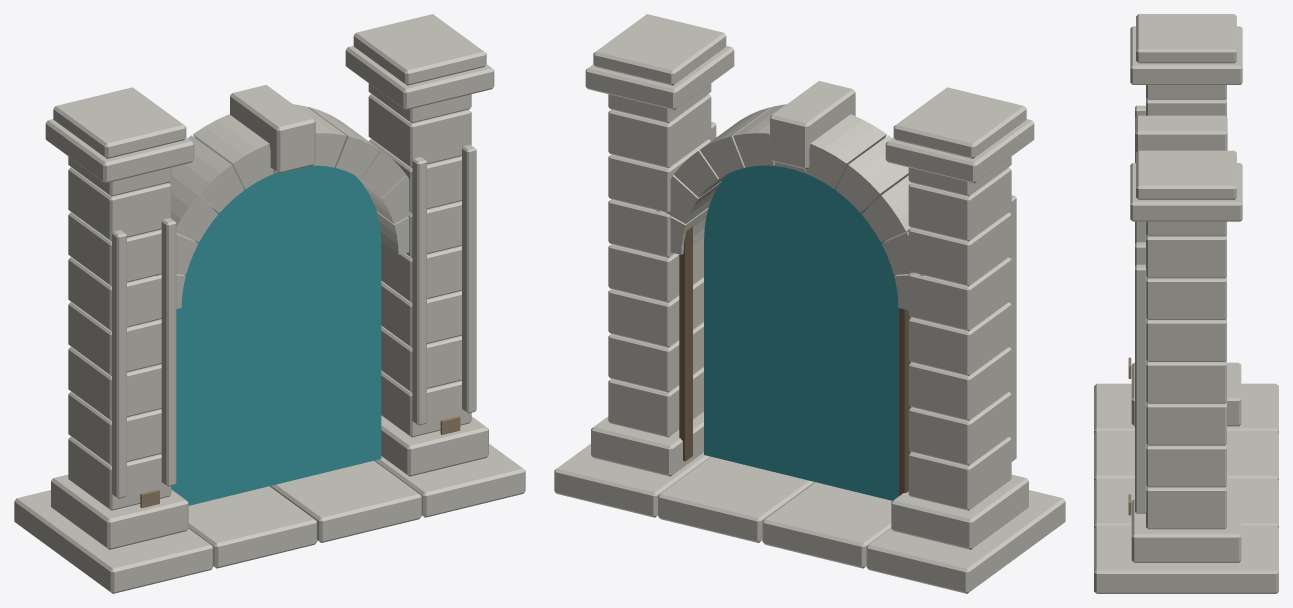
3 views of the same model, side by side, from view 1: azimuth 30°, elevation 25°; view 2: azimuth 150°, elevation 25°; view 3: azimuth 270°, elevation 25° (orthographic). The views are drawn at different scales.
Visible parts, largest first — view 1: limestone, portal; view 2: limestone, portal, timber; view 3: limestone.
Boxes of the visible parts, x1,y1,x2,y2 form: limestone: (14,14,525,593); portal: (171,165,381,505); limestone: (554,14,1065,593); portal: (704,165,898,500); timber: (679,226,911,495); limestone: (1094,14,1278,593).
Bounding box in the file's own units: 3.1 × 3.07 × 1.28.
